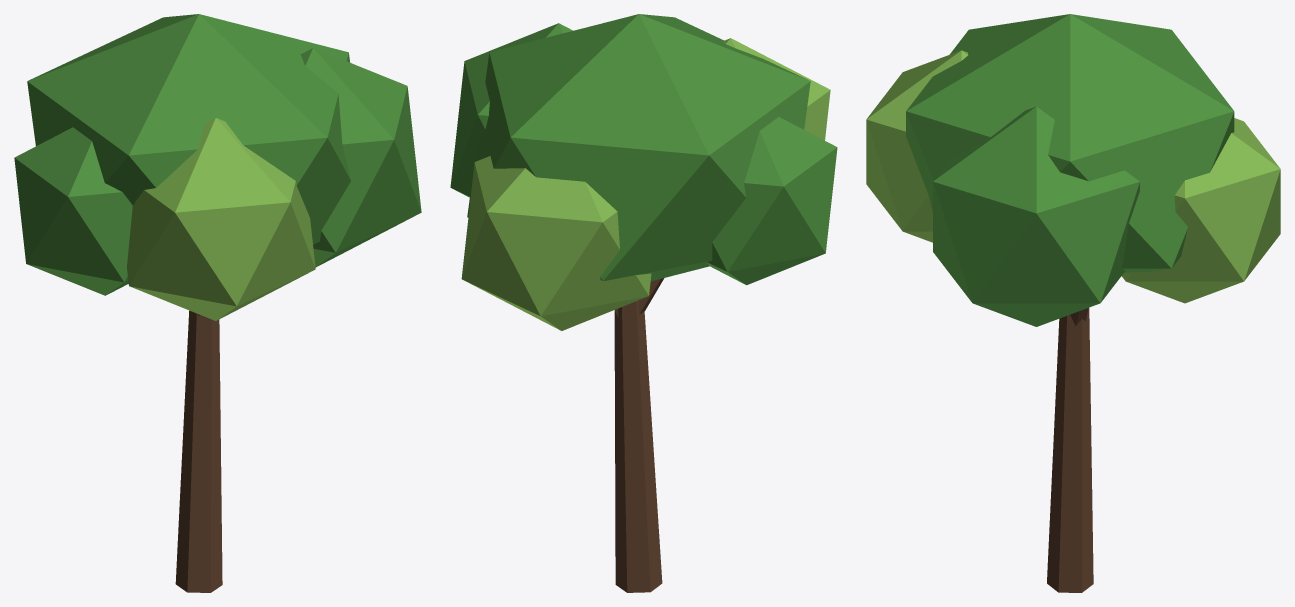
The model's file is tree_a.glb.
The picture shows the model from 3 angles, left to right: view 1: azimuth 30°, elevation 25°; view 2: azimuth 150°, elevation 25°; view 3: azimuth 270°, elevation 25°; orthographic projection.
Parts seen in each view (by area): view 1: tree_a; view 2: tree_a; view 3: tree_a.
Part boxes in pixels (<box>): tree_a: <box>14,14,421,592</box>; tree_a: <box>450,14,837,592</box>; tree_a: <box>866,14,1280,592</box>.
Bounding box in the file's own units: 4.76 × 7 × 4.61.
